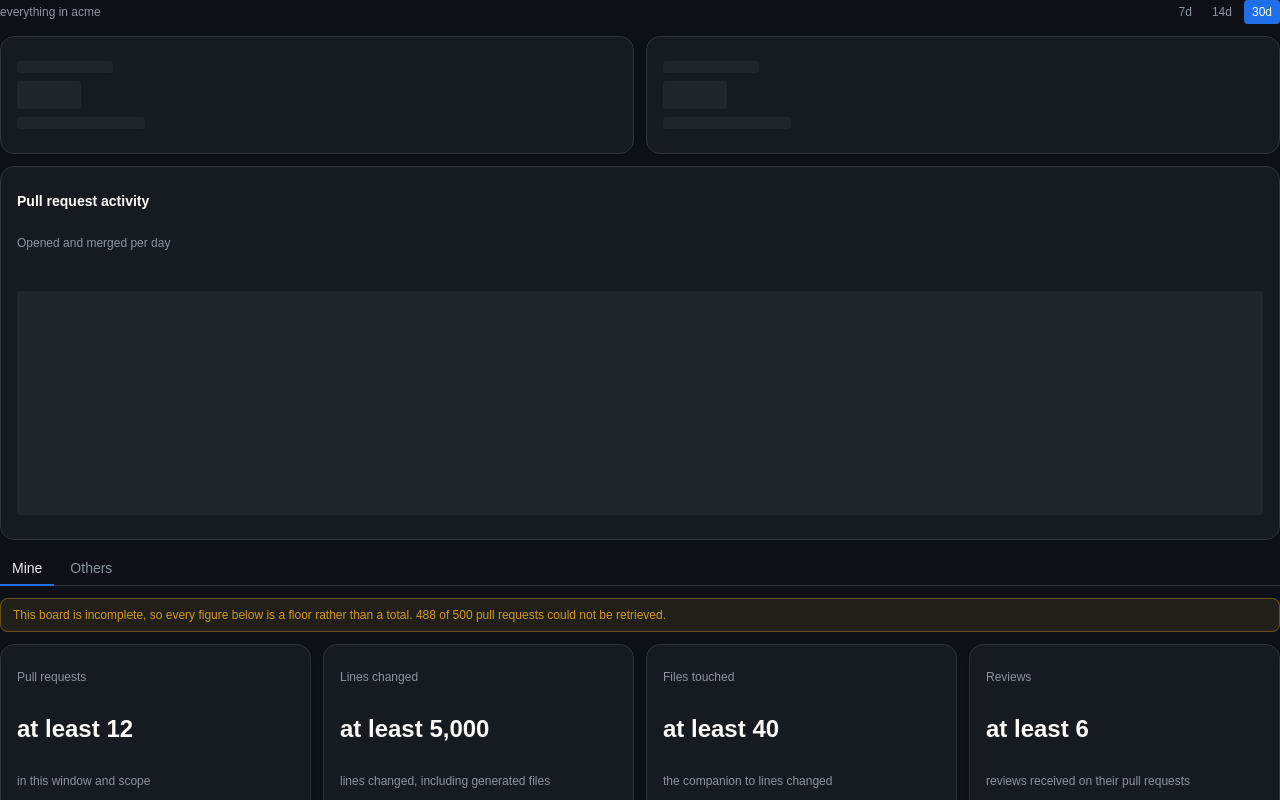
Test case: StatsPage honesty › does not deny missing people on a partial board
What coordinates should you click on to do the following:
click the tab "Others"
I would click on:
 (91, 569)
Its box is [58, 552, 124, 586].
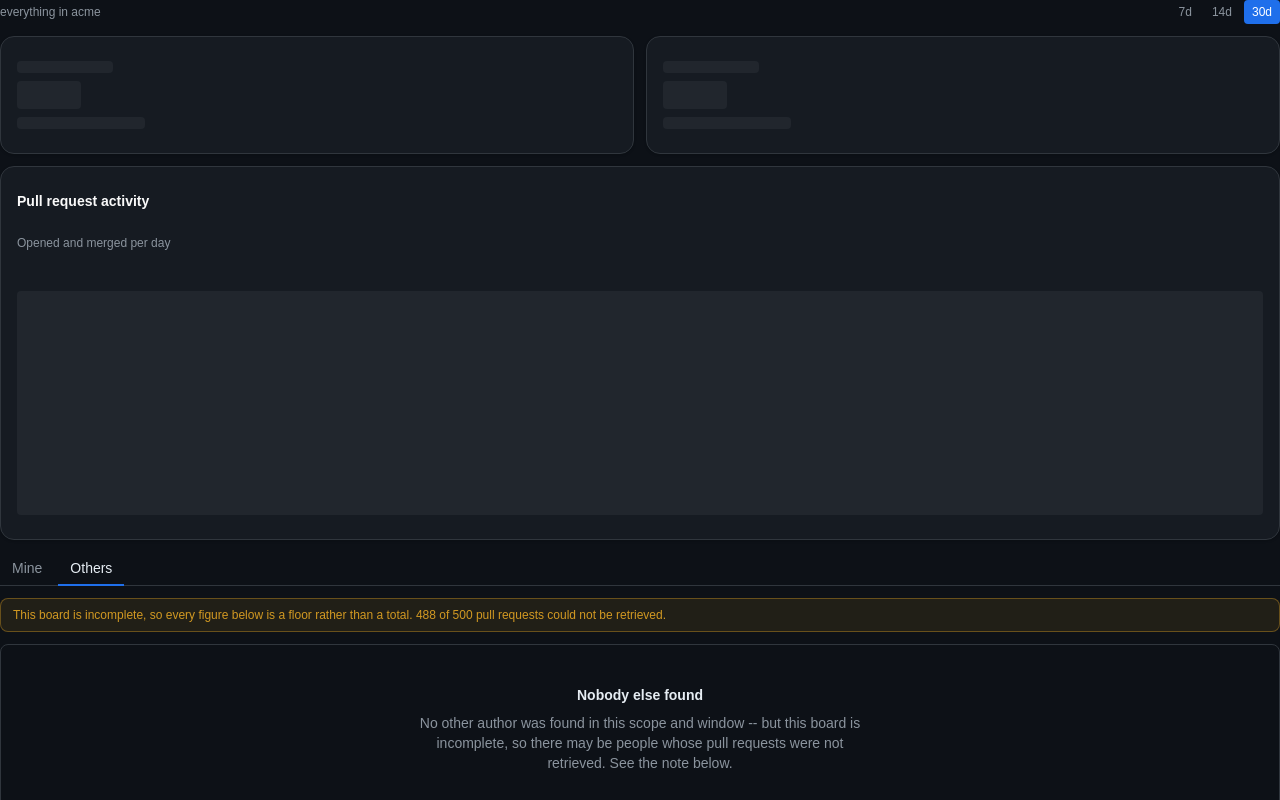
Expected: the text "may be people whose pull requests were not retrieved" is shown, [420, 715, 860, 771]
